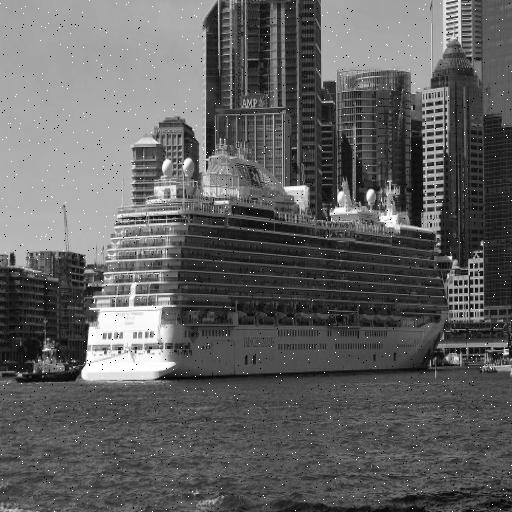cruises: (77, 135, 451, 386)
